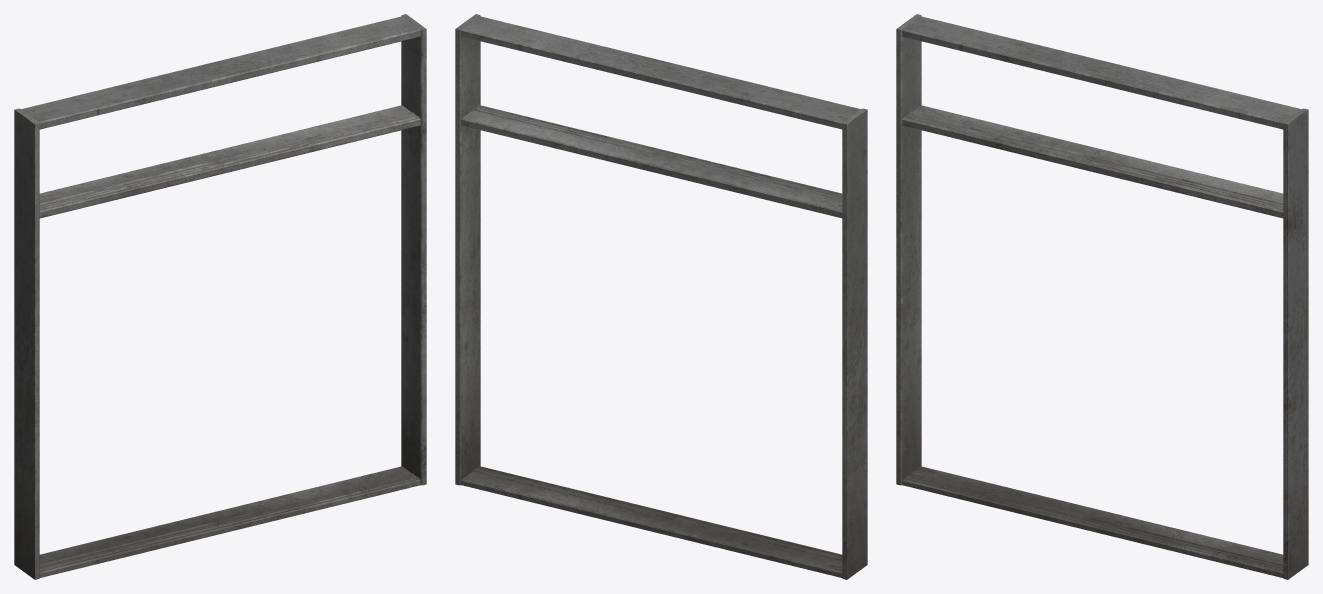
Rendered from DoorFrame_C.fbx.
3 renders of one model, left to right at view 1: azimuth 30°, elevation 25°; view 2: azimuth 150°, elevation 25°; view 3: azimuth 330°, elevation 25°, orthographic.
Visible parts, largest first — view 1: DoorFrame_C; view 2: DoorFrame_C; view 3: DoorFrame_C.
Boxes of the visible parts, x1,y1,x2,y2 form: DoorFrame_C: (14,14,426,579); DoorFrame_C: (455,14,867,579); DoorFrame_C: (896,14,1308,579).
Size of the model in its own units: 225 by 250 by 20.37.
1 material, 1 textured.
